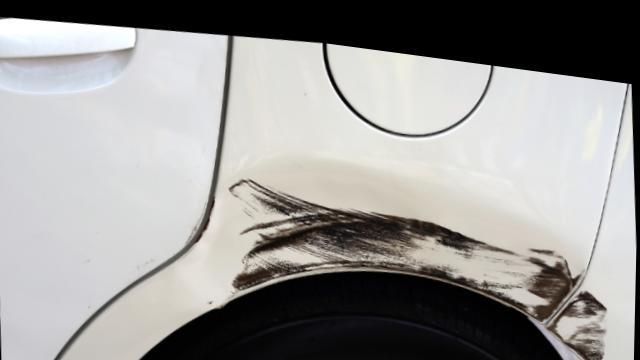scratch: (227, 164, 589, 306), (544, 271, 612, 353)
